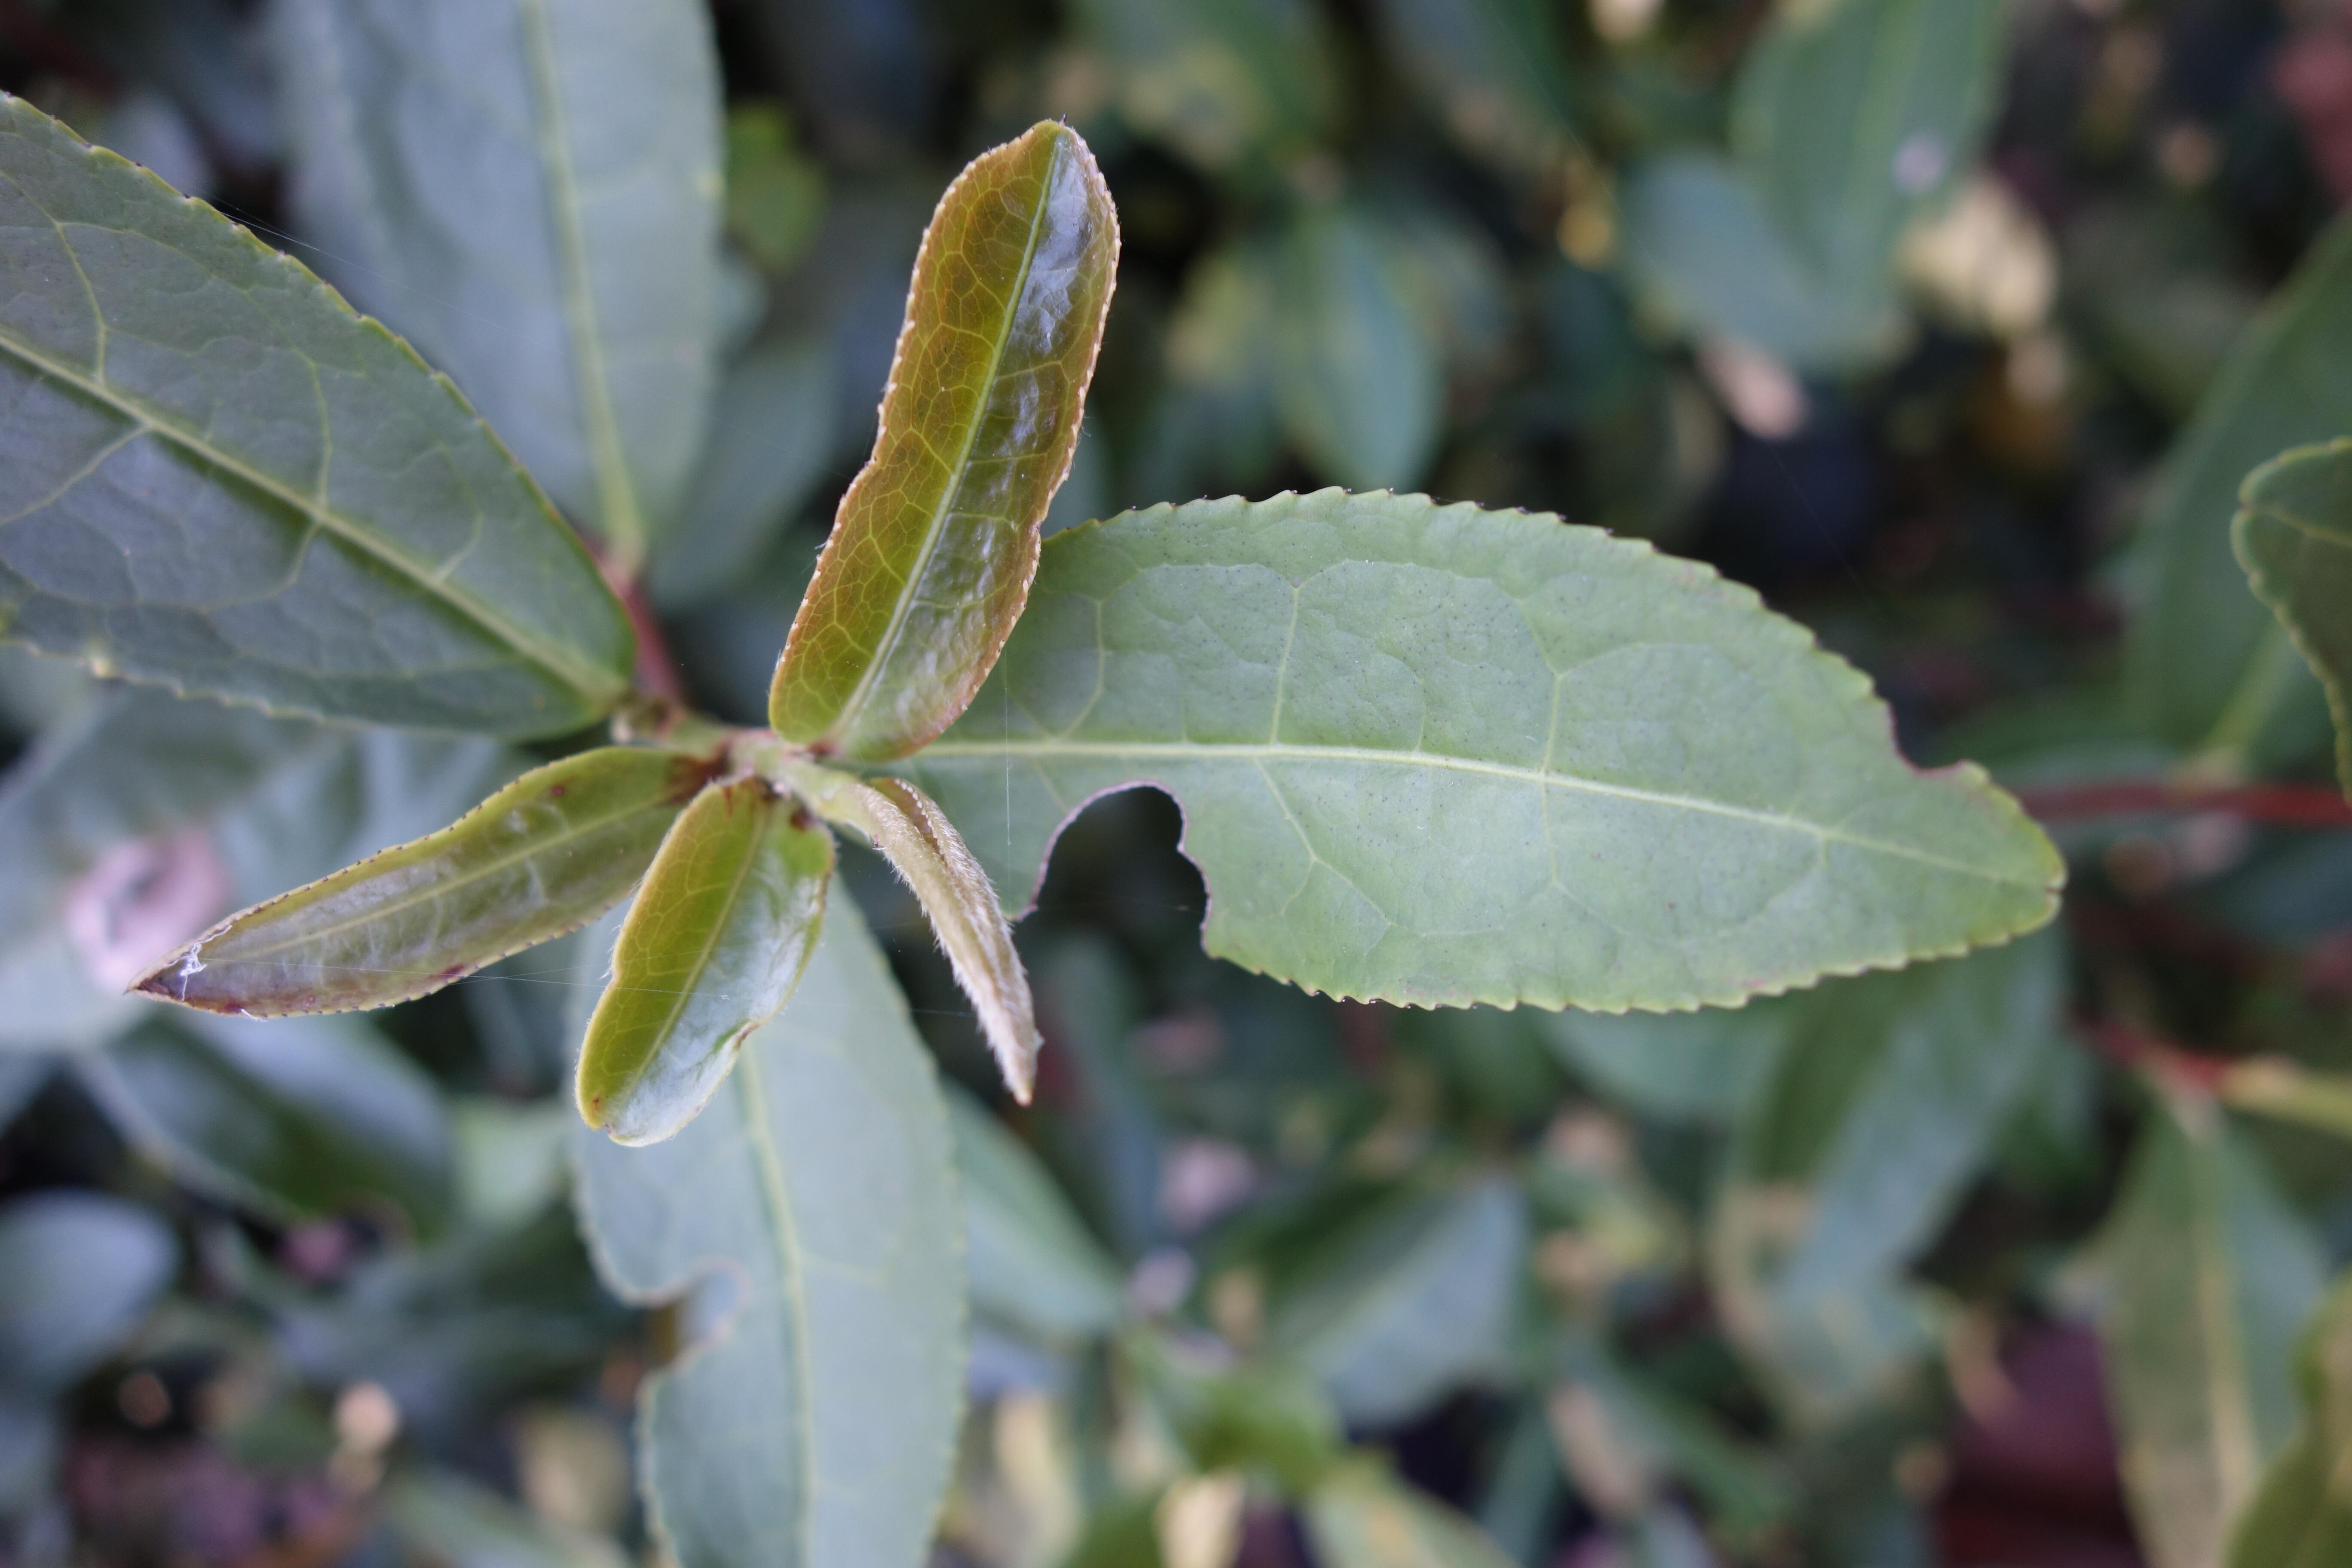chihuo_high: (982, 485, 2067, 1006)
healthy: (2, 87, 647, 740)
tanju_low: (759, 114, 1118, 765), (122, 745, 742, 1017), (574, 772, 833, 1143)
